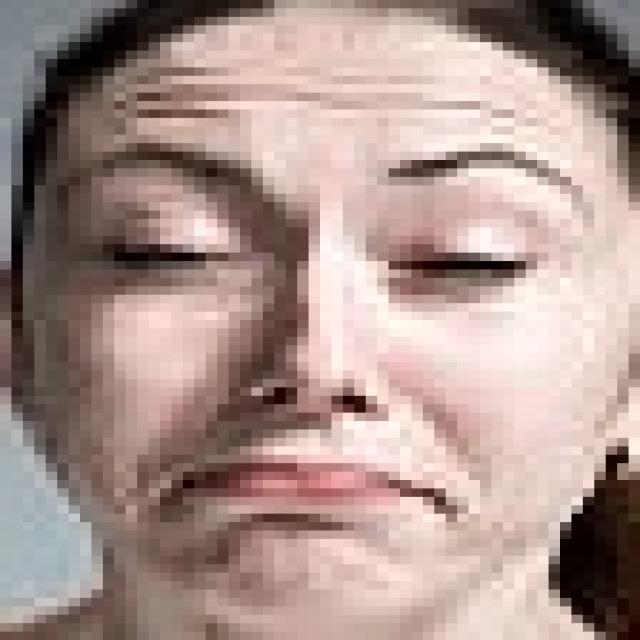Anxiety: (27, 0, 629, 614)
